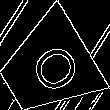O_SW: (16, 36, 79, 99)
